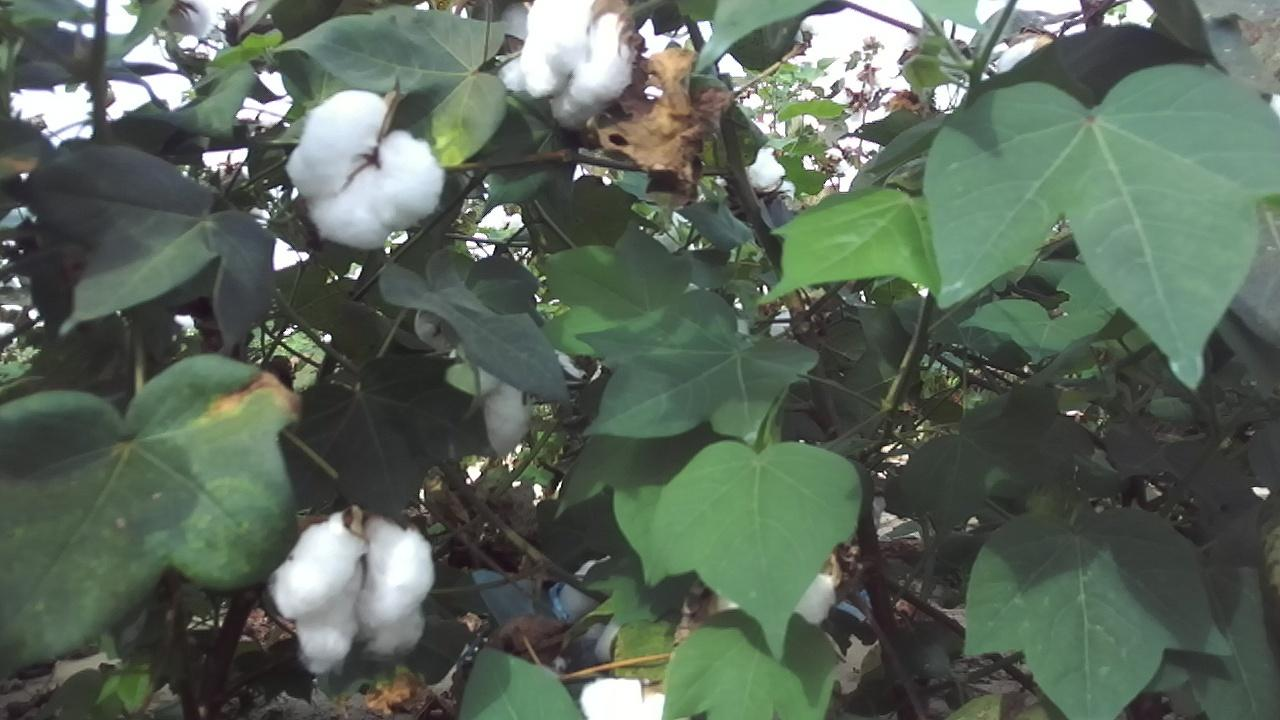cotton_ready: (272, 507, 434, 671), (287, 91, 442, 249), (497, 0, 633, 127), (581, 675, 672, 720)
